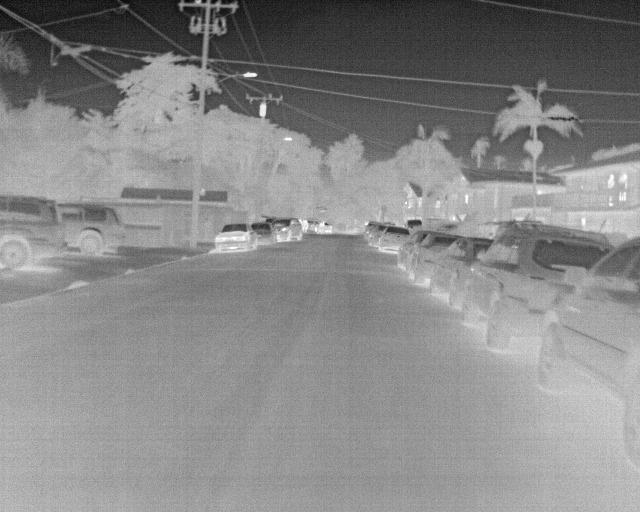car: (536, 236, 639, 476), (450, 223, 615, 354), (1, 194, 63, 273), (425, 234, 493, 306), (57, 201, 124, 260), (410, 234, 460, 285), (216, 224, 258, 254), (397, 233, 427, 273), (378, 226, 412, 254), (270, 218, 303, 245), (250, 224, 277, 248), (367, 222, 388, 246), (404, 217, 424, 236), (312, 222, 333, 235)
